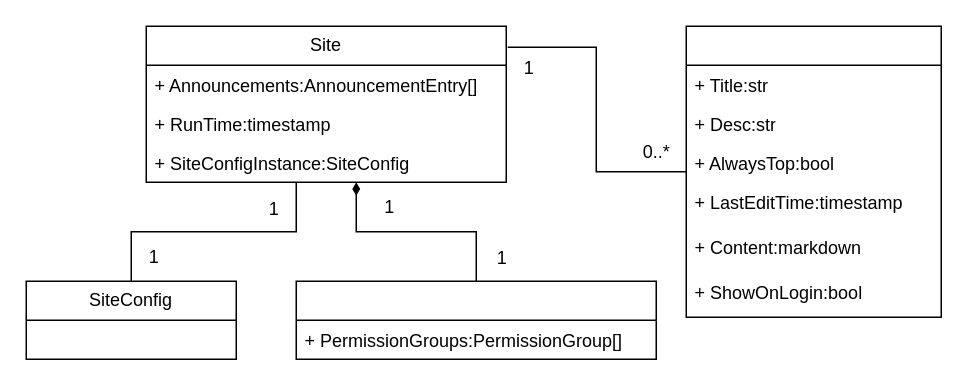
Image size: 968x390. Some labels were removed from this diagram. The shapes that lost their labels are listed below. From the top down, each one's box as (x1, y1, x2, y2) in pixels, then its label:
(685, 25, 941, 317): AnnouncementEntry
(295, 280, 656, 359): PermissionGroupList
